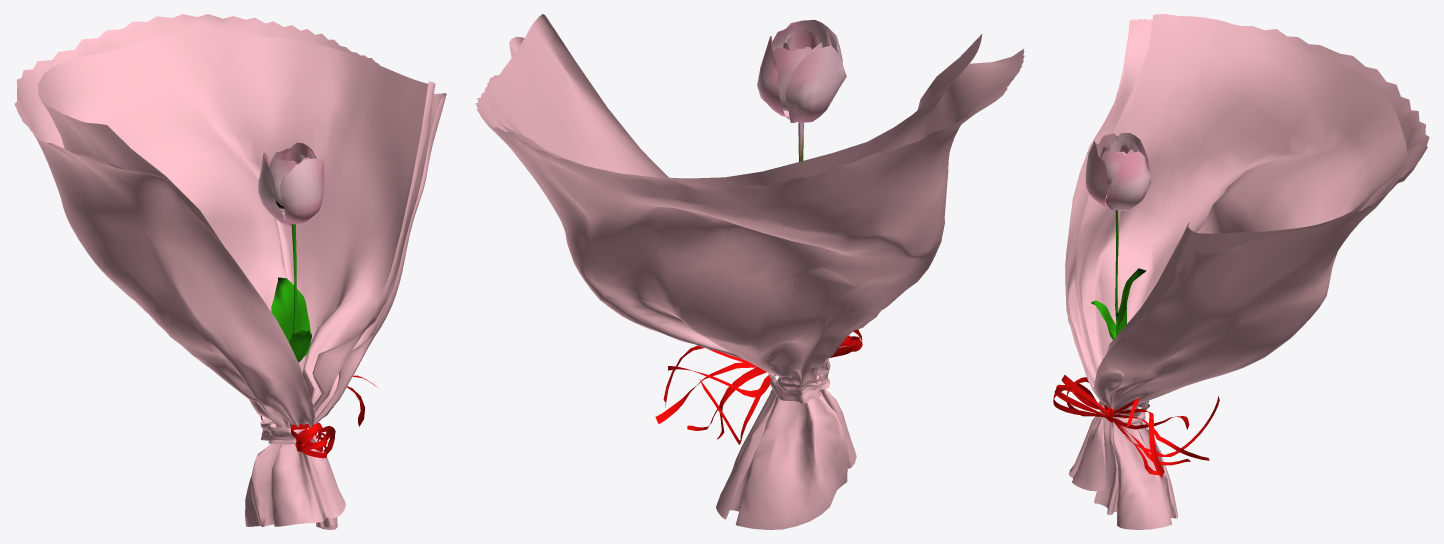
The picture shows the model from 3 angles, left to right: view 1: azimuth 30°, elevation 25°; view 2: azimuth 150°, elevation 25°; view 3: azimuth 270°, elevation 25°; orthographic projection. The views are drawn at different scales.
Parts seen in each view (by area): view 1: inner, outer, Geometry, ribbon, parcel_knot; view 2: outer, inner, Geometry, ribbon, parcel_knot; view 3: inner, outer, Geometry, ribbon.
Part boxes in pixels (box(x1,y1,x2,y2)): inner: box(38, 32, 435, 428); outer: box(14, 14, 446, 529); Geometry: box(258, 142, 324, 362); ribbon: box(260, 375, 376, 458); parcel_knot: box(260, 418, 308, 444); outer: box(475, 36, 1024, 529); inner: box(488, 14, 982, 187); Geometry: box(757, 20, 846, 161); ribbon: box(655, 329, 862, 444); parcel_knot: box(767, 358, 830, 403); inner: box(1074, 14, 1407, 376); outer: box(1065, 18, 1429, 529); Geometry: box(1085, 133, 1150, 339); ribbon: box(1053, 375, 1219, 478).
Bounding box in the file's own units: 1.81 × 1.9 × 1.55.
6 materials, 1 textured.
